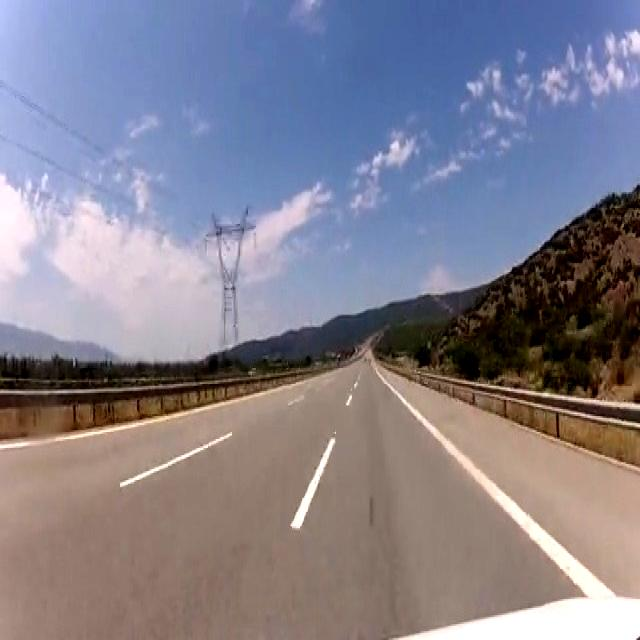lane: (120, 432, 232, 488), (291, 438, 336, 528), (346, 393, 351, 406)
road: (0, 357, 582, 636), (381, 370, 639, 597)
